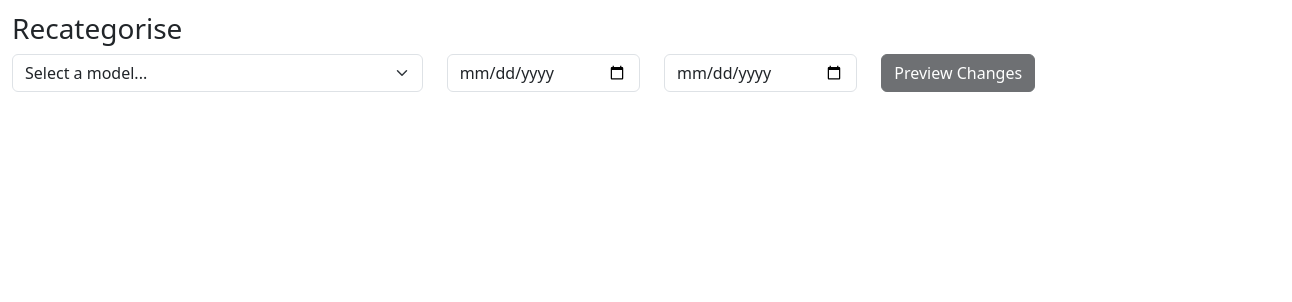
it: Recategorise › should show preview table after selecting model and clicking Preview
Select "test-model" in the dropdown at (217, 73), box x1=12 y1=54 x2=423 y2=92
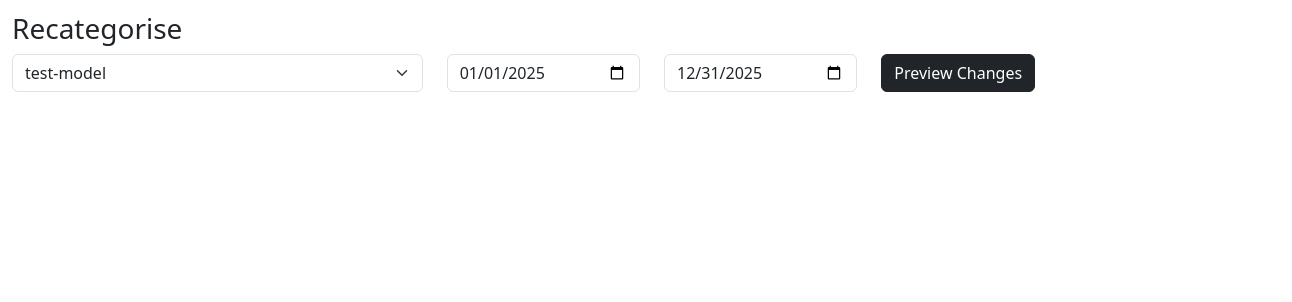
Click the button "Preview Changes".
click(958, 73)  # box x1=881 y1=54 x2=1035 y2=92
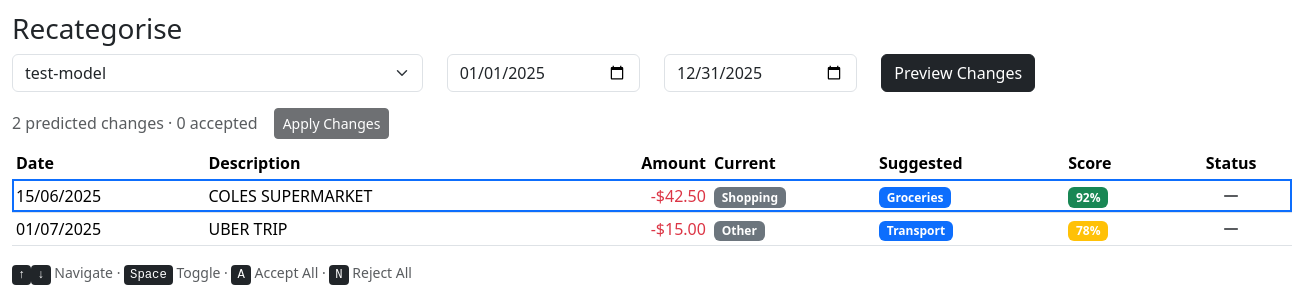
Check: the text "COLES SUPERMARKET" is shown, box x1=204 y1=179 x2=560 y2=212
Check: the text "UBER TRIP" is shown, box x1=204 y1=212 x2=560 y2=246
Check: the text "Groceries" is shown, box x1=879 y1=187 x2=951 y2=208
